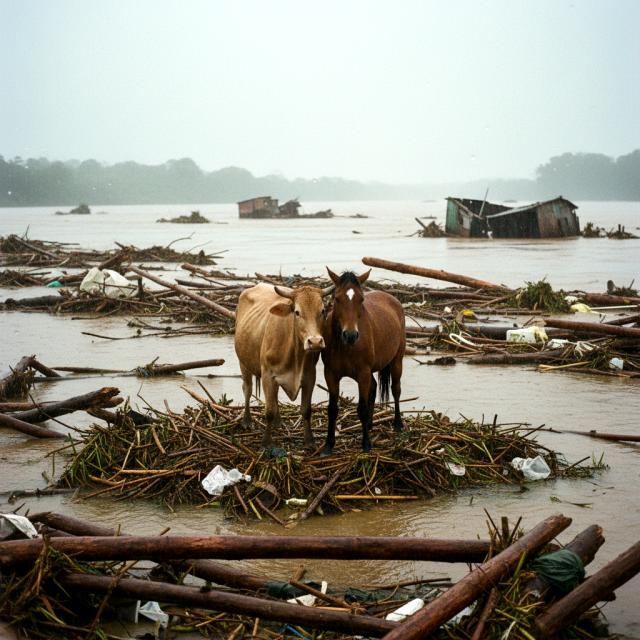cow: (228, 276, 336, 464)
horse: (317, 260, 421, 461)
